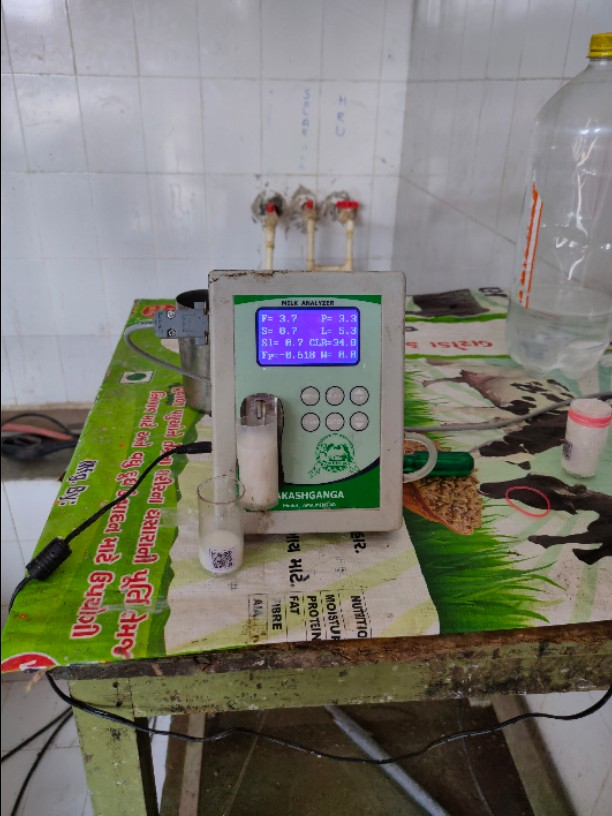lcd: (251, 306, 368, 368)
qr: (205, 548, 241, 572)
